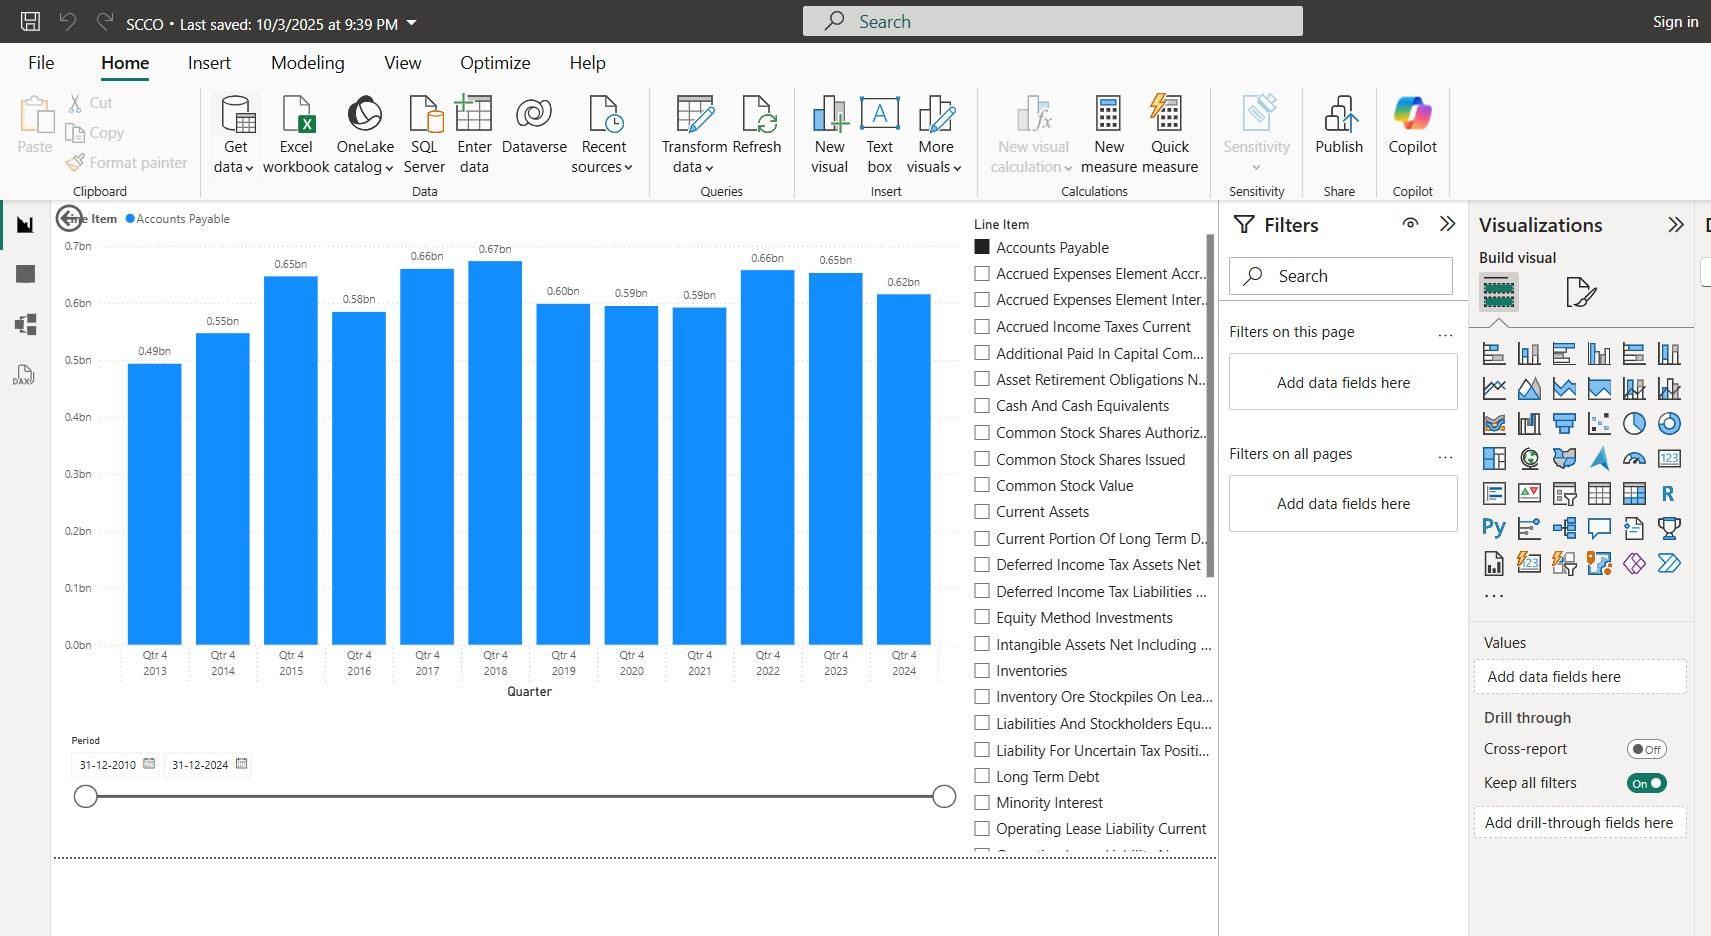

The page's visual inventory and layout, read from the dashboard file:
{"tool":"powerbi","page":{"name":"Balance Sheet","canvas":[1280,720],"ordinal":1},"visuals":[{"type":"columnChart","fields":{"Category":["company scco_nyq_balance_sheet_up.instant_date_PE.Variation.Date Hierarchy.Year","company scco_nyq_balance_sheet_up.instant_date_PE.Variation.Date Hierarchy.Quarter"],"Y":["Sum(company scco_nyq_balance_sheet_up.numeric_value)"],"Series":["company scco_nyq_balance_sheet_up.Line Item"]},"box":[9.6,0,991.1,552.4],"z":0},{"type":"slicer","fields":{"Values":["company scco_nyq_balance_sheet_up.Line Item"]},"box":[999.3,13.7,281,705.9],"z":1000},{"type":"slicer","fields":{"Values":["company scco_nyq_balance_sheet_up.instant_date_PE"]},"box":[9.6,581.2,991.1,123.4],"z":2000},{"type":"actionButton","box":[0,0,100,40],"z":3000}]}

Visuals, with their boxes on the page's 1280x720 design canvas (x1, y1, x2, y2). These are canvas units, not pixel positions in the 1711x936 screenshot, which may show the page scaled, cropped or inside an application window:
columnChart - company scco_nyq_balance_sheet_up.instant_date_PE.Variation.Date Hierarchy.Year x company scco_nyq_balance_sheet_up.instant_date_PE.Variation.Date Hierarchy.Quarter: select_region(10, 0, 1001, 552)
slicer - company scco_nyq_balance_sheet_up.Line Item: select_region(999, 14, 1280, 720)
slicer - company scco_nyq_balance_sheet_up.instant_date_PE: select_region(10, 581, 1001, 705)
actionButton: select_region(0, 0, 100, 40)
